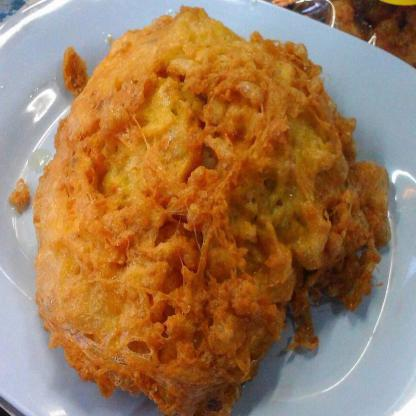Omelette: (13, 17, 400, 416)
